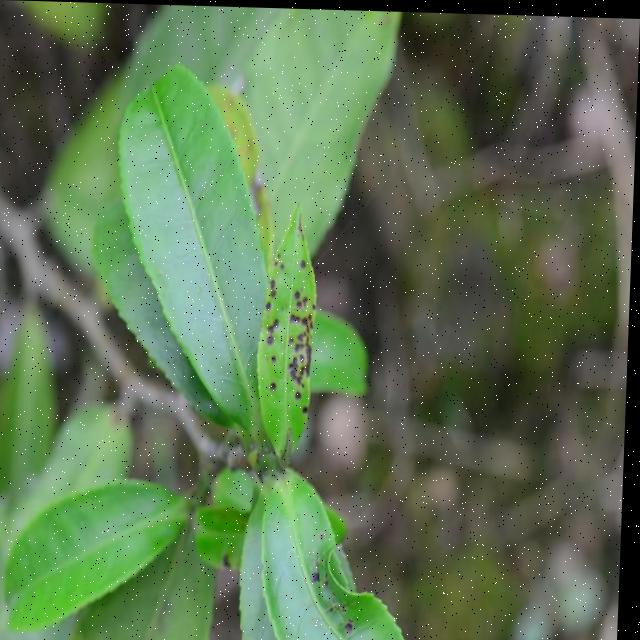Tea red scab: (291, 246, 327, 415), (259, 245, 286, 349)
